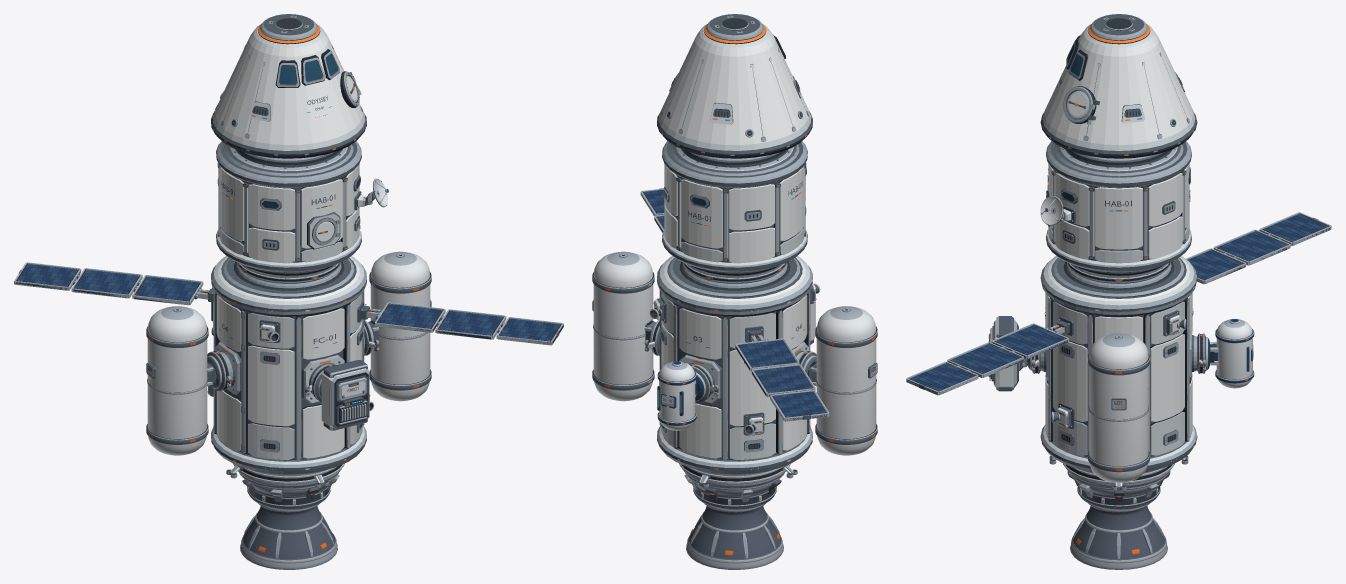
File: nave_modelada_v01.glb
The picture shows the model from 3 angles, left to right: view 1: azimuth 30°, elevation 25°; view 2: azimuth 150°, elevation 25°; view 3: azimuth 270°, elevation 25°; orthographic projection.
Parts seen in each view (by area): view 1: Casco cerámico troncocónico.001, G01 | Casco y tapas redondeadas.001, G01 | Casco y tapas redondeadas.002, FC | Carenados segmentados 06.001, MP-01 | Tobera acampanada.001, FC | Anillo estructural superior.001, FC | Carenados segmentados 07.001, HAB | Paneles cerámicos sector 08.001, FC | Refuerzos longitudinales de titanio.001, FC | Carenados segmentados 05.001, FC | Anillo estructural inferior.001, HAB | Paneles cerámicos sector 01.001 (+28 smaller); view 2: Casco cerámico troncocónico.001, G01 | Casco y tapas redondeadas.002, G01 | Casco y tapas redondeadas.001, FC | Carenados segmentados 04.001, MP-01 | Tobera acampanada.001, FC | Carenados segmentados 03.001, FC | Anillo estructural superior.001, HAB | Paneles cerámicos sector 06.001, HAB | Paneles cerámicos sector 05.001, FC | Refuerzos longitudinales de titanio.001, FC | Anillo estructural inferior.001, FC | Asiento anular de cabina.001 (+28 smaller); view 3: Casco cerámico troncocónico.001, G01 | Casco y tapas redondeadas.002, FC | Carenados segmentados 02.001, MP-01 | Tobera acampanada.001, FC | Carenados segmentados 08.001, FC | Anillo estructural superior.001, HAB | Paneles cerámicos sector 03.001, HAB | Paneles cerámicos sector 04.001, FC | Asiento anular de cabina.001, FC | Refuerzos longitudinales de titanio.001, HAB | Anillo estructural superior.001, HAB | Paneles cerámicos sector 02.001 (+22 smaller).
Part boxes in pixels (x1,y1,x2,y2): Casco cerámico troncocónico.001: [212, 24, 365, 150]; G01 | Casco y tapas redondeadas.001: [147, 306, 207, 455]; G01 | Casco y tapas redondeadas.002: [370, 251, 430, 401]; FC | Carenados segmentados 06.001: [248, 312, 294, 459]; MP-01 | Tobera acampanada.001: [240, 503, 337, 569]; FC | Anillo estructural superior.001: [211, 256, 366, 316]; FC | Carenados segmentados 07.001: [302, 308, 344, 458]; HAB | Paneles cerámicos sector 08.001: [249, 183, 295, 263]; FC | Refuerzos longitudinales de titanio.001: [213, 290, 364, 460]; FC | Carenados segmentados 05.001: [216, 295, 242, 450]; FC | Anillo estructural inferior.001: [211, 426, 366, 474]; HAB | Paneles cerámicos sector 01.001: [300, 179, 342, 262]; Casco cerámico troncocónico.001: [658, 24, 811, 150]; G01 | Casco y tapas redondeadas.002: [593, 251, 653, 401]; G01 | Casco y tapas redondeadas.001: [816, 306, 876, 455]; FC | Carenados segmentados 04.001: [729, 312, 775, 459]; MP-01 | Tobera acampanada.001: [686, 503, 783, 569]; FC | Carenados segmentados 03.001: [679, 308, 721, 458]; FC | Anillo estructural superior.001: [657, 256, 812, 316]; HAB | Paneles cerámicos sector 06.001: [728, 183, 774, 263]; HAB | Paneles cerámicos sector 05.001: [681, 178, 723, 262]; FC | Refuerzos longitudinales de titanio.001: [659, 290, 810, 460]; FC | Anillo estructural inferior.001: [657, 426, 812, 474]; FC | Asiento anular de cabina.001: [669, 258, 800, 297]; Casco cerámico troncocónico.001: [1042, 24, 1195, 150]; G01 | Casco y tapas redondeadas.002: [1089, 333, 1148, 482]; FC | Carenados segmentados 02.001: [1149, 301, 1184, 455]; MP-01 | Tobera acampanada.001: [1070, 503, 1167, 569]; FC | Carenados segmentados 08.001: [1053, 301, 1088, 455]; FC | Anillo estructural superior.001: [1040, 255, 1197, 316]; HAB | Paneles cerámicos sector 03.001: [1095, 186, 1142, 263]; HAB | Paneles cerámicos sector 04.001: [1147, 172, 1182, 259]; FC | Asiento anular de cabina.001: [1053, 258, 1184, 297]; FC | Refuerzos longitudinales de titanio.001: [1048, 297, 1189, 452]; HAB | Anillo estructural superior.001: [1046, 141, 1191, 187]; HAB | Paneles cerámicos sector 02.001: [1055, 172, 1090, 259].
Bounding box in the file's own units: 8.16 × 11.13 × 8.16.
